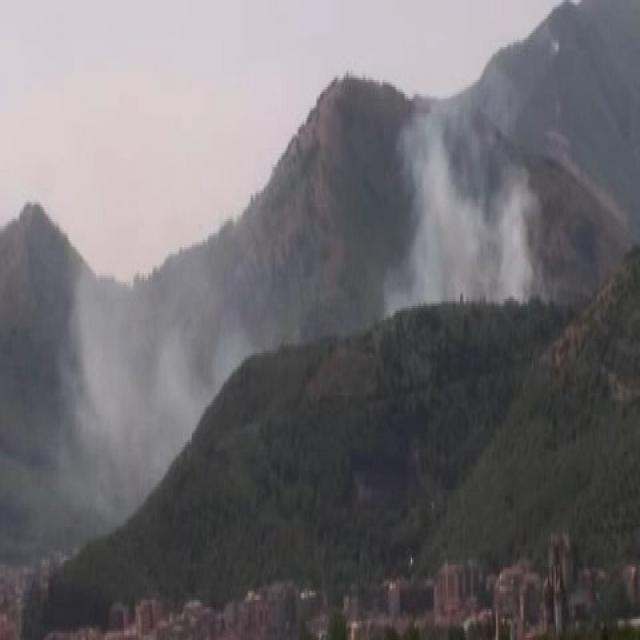smoke: (386, 112, 533, 311), (76, 262, 222, 462)
